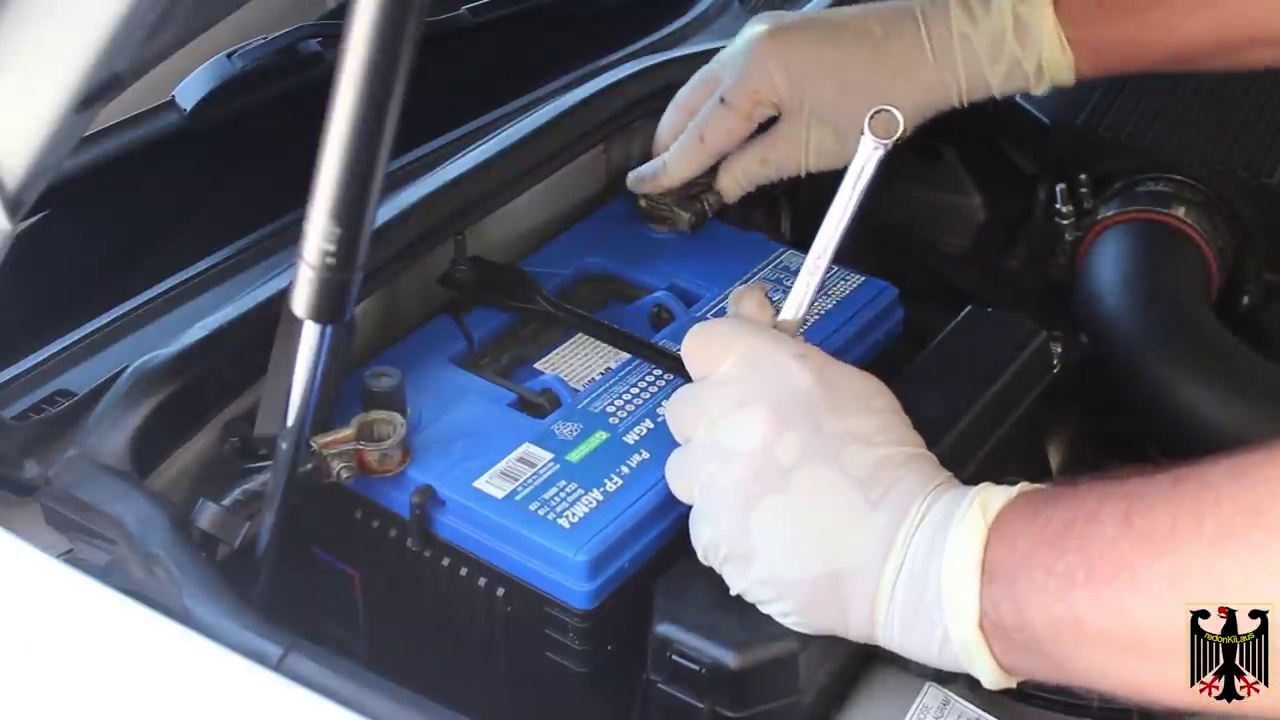battery: (279, 196, 896, 554)
